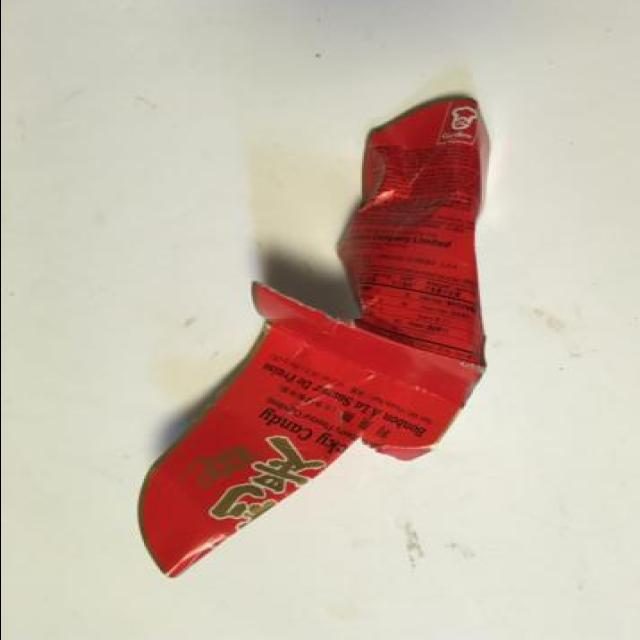kertas: (135, 97, 494, 579)
